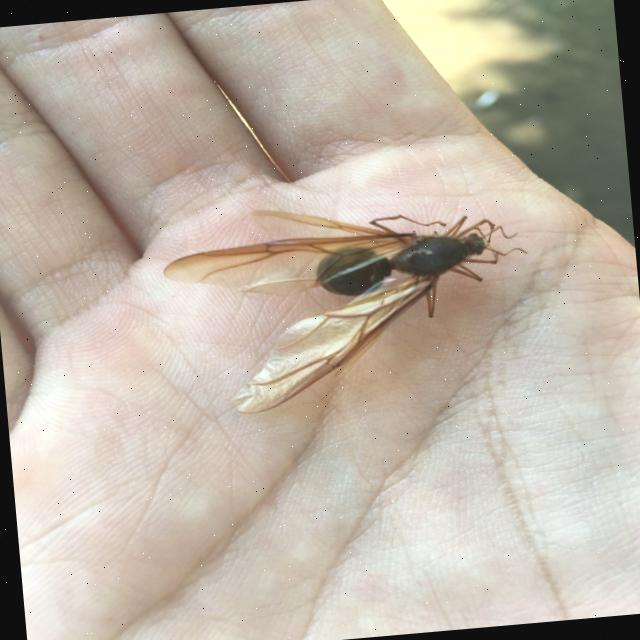Dead-Male-Alate: (158, 186, 540, 420)
